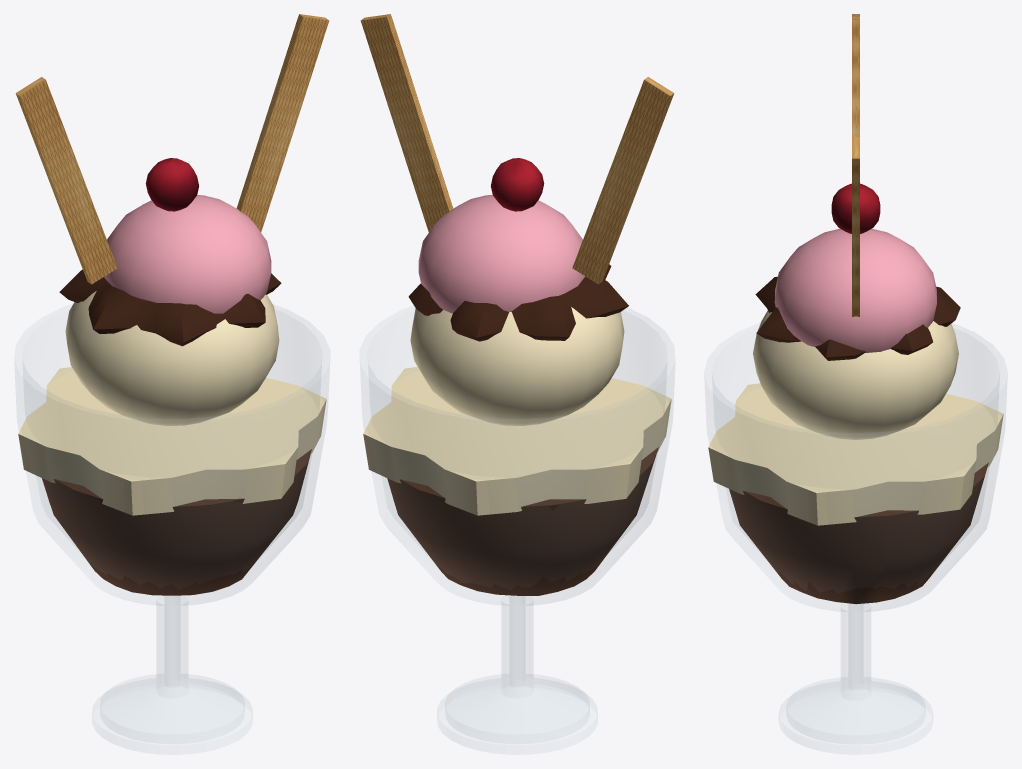
The model's file is dessert_sundae_glass.glb.
3 renders of one model, left to right at view 1: azimuth 30°, elevation 25°; view 2: azimuth 150°, elevation 25°; view 3: azimuth 270°, elevation 25°, orthographic. The views are drawn at different scales.
Visible parts, largest first — view 1: dessert_sundae_glass; view 2: dessert_sundae_glass; view 3: dessert_sundae_glass.
Part boxes in pixels (left/top/right/bottom): dessert_sundae_glass: left=15, top=14, right=329, bottom=754; dessert_sundae_glass: left=360, top=14, right=674, bottom=754; dessert_sundae_glass: left=704, top=14, right=1007, bottom=754.
Size of the model in its own units: 0.133 by 0.2766 by 0.118.
7 materials, 2 textured.
